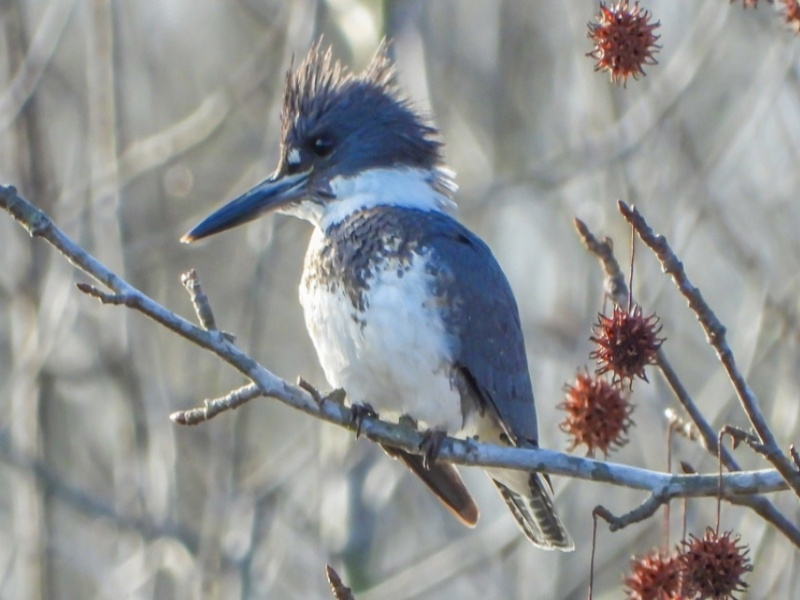kingfisher: (174, 32, 574, 552)
